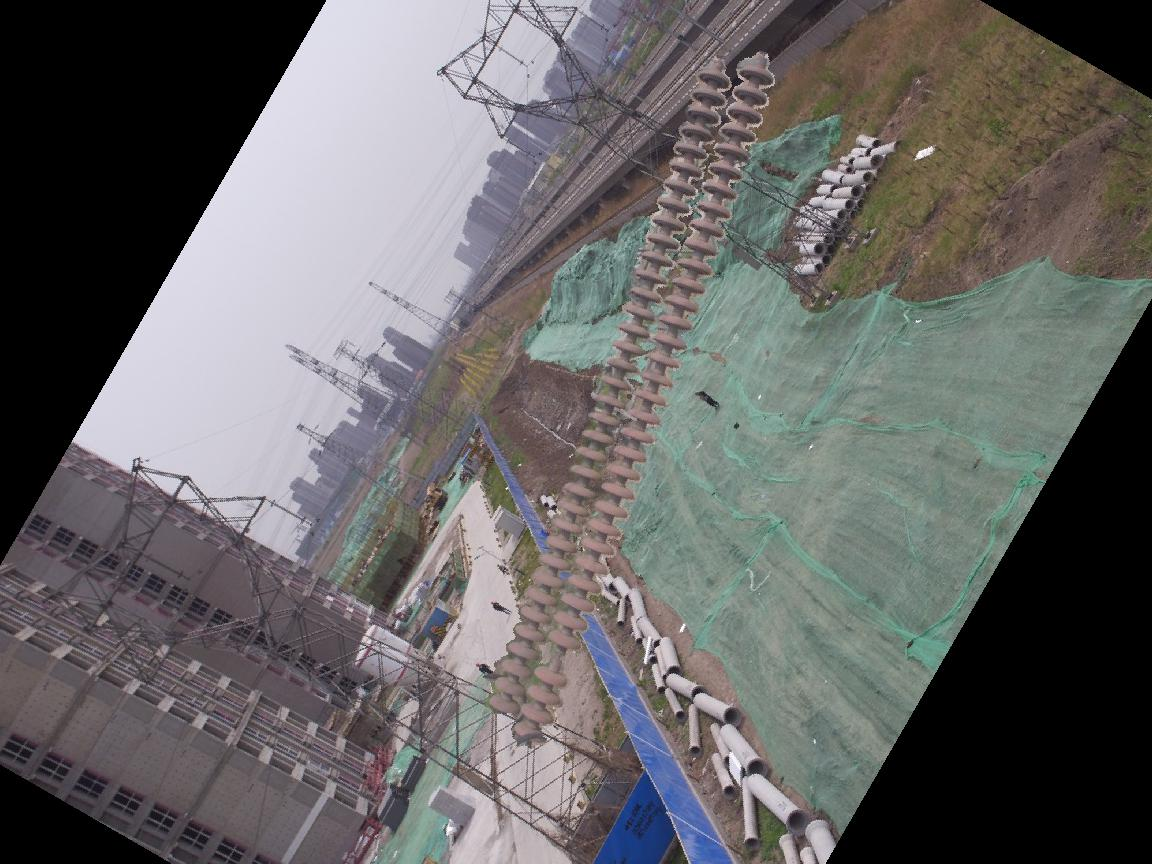insulator: (485, 51, 784, 751)
insulator_stringdrop: (528, 629, 585, 692)
